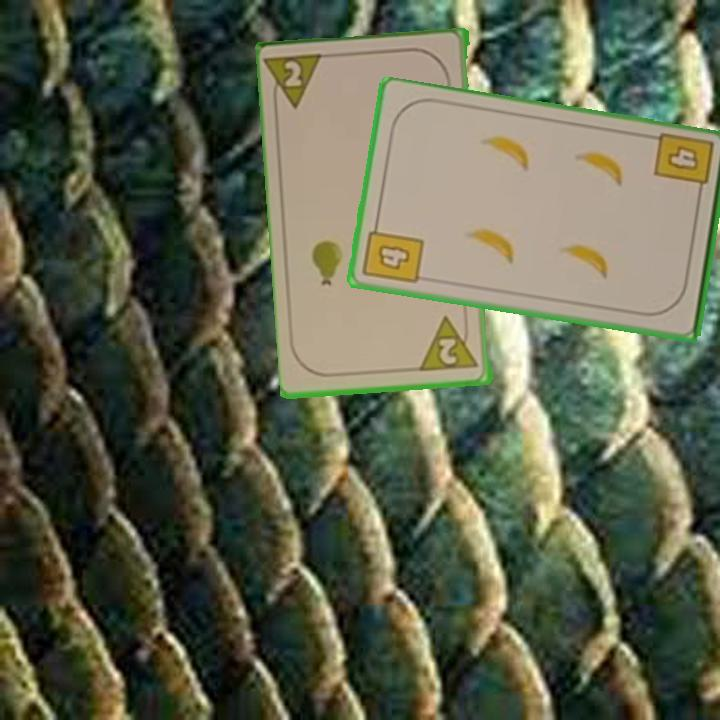2p: (264, 50, 330, 115), (419, 313, 482, 375)
4b: (359, 216, 427, 288), (651, 129, 717, 201)
